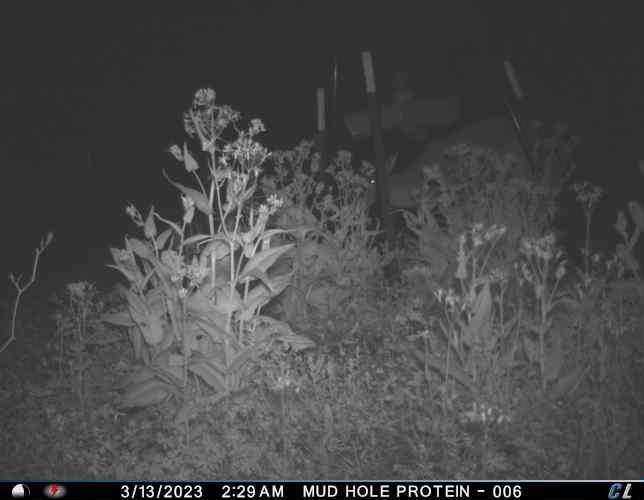Deer: (358, 114, 569, 229)
